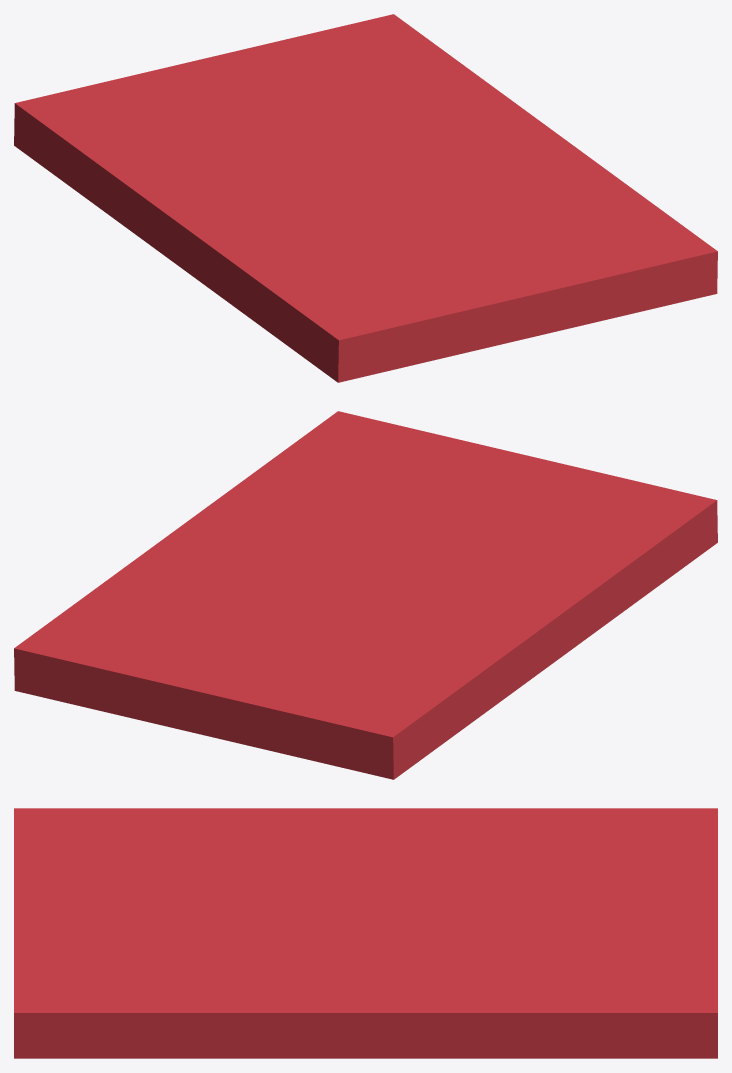
File: RedPressurePlate.glb
The picture shows the model from 3 angles, top to bottom: view 1: azimuth 30°, elevation 25°; view 2: azimuth 150°, elevation 25°; view 3: azimuth 270°, elevation 25°; orthographic projection. The views are drawn at different scales.
Parts seen in each view (by area): view 1: RedButton; view 2: RedButton; view 3: RedButton.
Boxes of the visible parts, x1,y1,x2,y2 form: RedButton: [14, 14, 717, 382]; RedButton: [14, 411, 717, 779]; RedButton: [14, 808, 717, 1058].
Size of the model in its own units: 1.65 by 0.1897 by 2.44.
